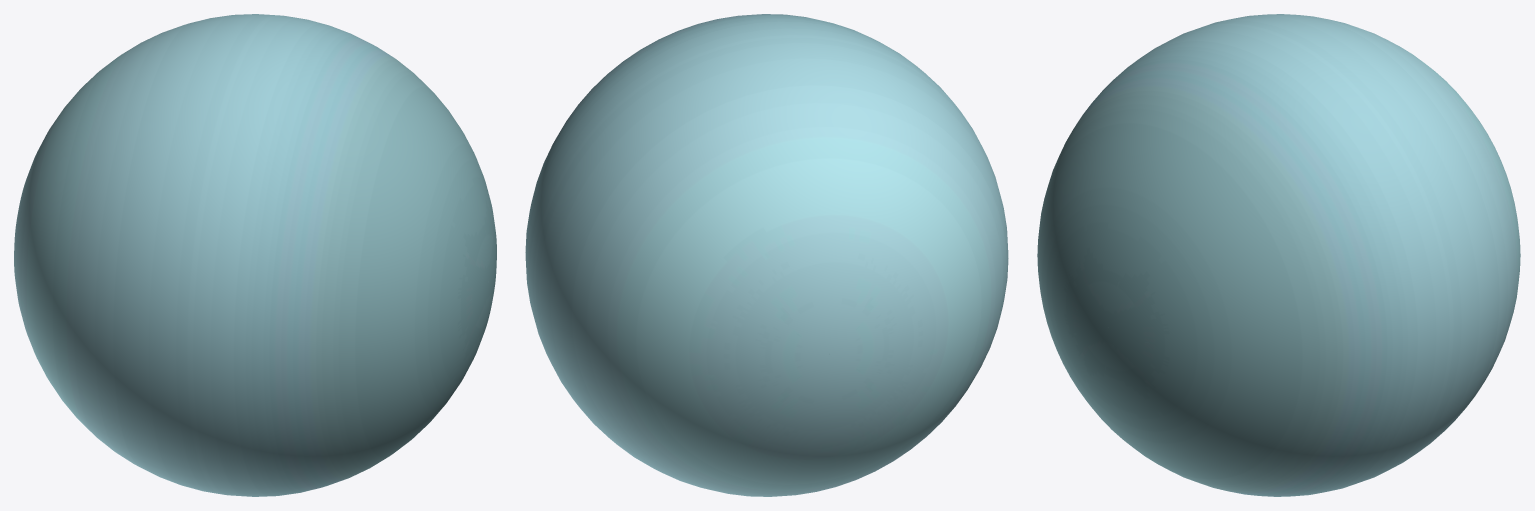
File: uranus-2863cc27.glb
3 renders of one model, left to right at view 1: azimuth 30°, elevation 25°; view 2: azimuth 150°, elevation 25°; view 3: azimuth 270°, elevation 25°, orthographic.
Parts seen in each view (by area): view 1: Uranus; view 2: Uranus; view 3: Uranus.
Part boxes in pixels (x1,y1,x2,y2): Uranus: (14,14,496,496); Uranus: (525,14,1008,496); Uranus: (1037,14,1520,496).
Size of the model in its own units: 2 by 2 by 2.
1 material, 1 textured.
